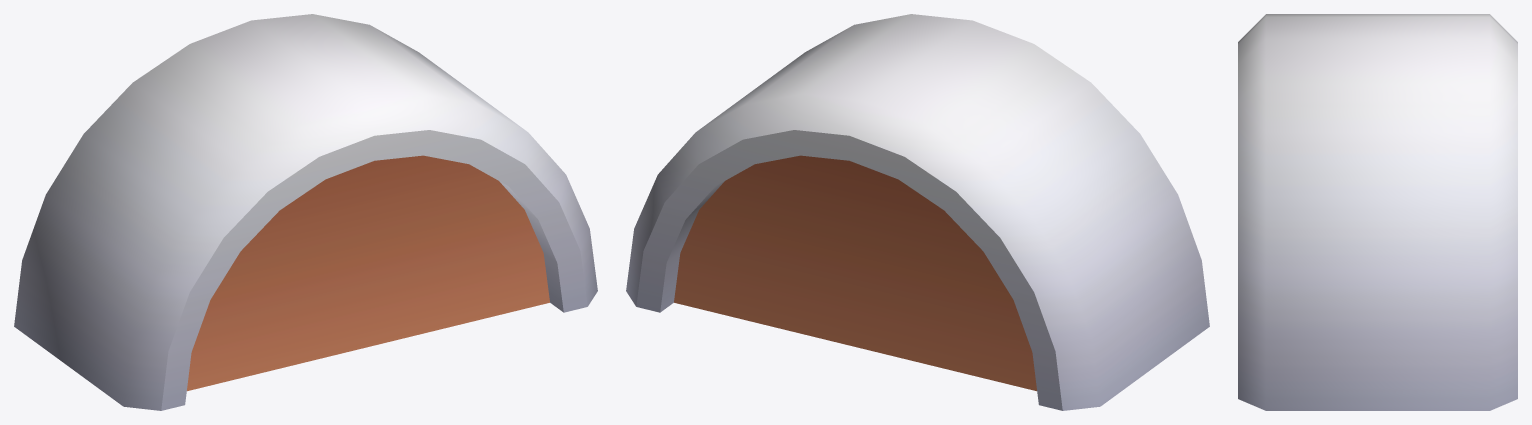
File: kenney-platformer-block-snow-curve.glb
3 renders of one model, left to right at view 1: azimuth 30°, elevation 25°; view 2: azimuth 150°, elevation 25°; view 3: azimuth 270°, elevation 25°, orthographic. The views are drawn at different scales.
Parts seen in each view (by area): view 1: block-snow-curve; view 2: block-snow-curve; view 3: block-snow-curve.
Boxes of the visible parts, x1,y1,x2,y2 form: block-snow-curve: (14,14,597,410); block-snow-curve: (626,14,1209,410); block-snow-curve: (1238,14,1517,410).
Bounding box in the file's own units: 2 × 1 × 1.
1 material, 1 textured.
